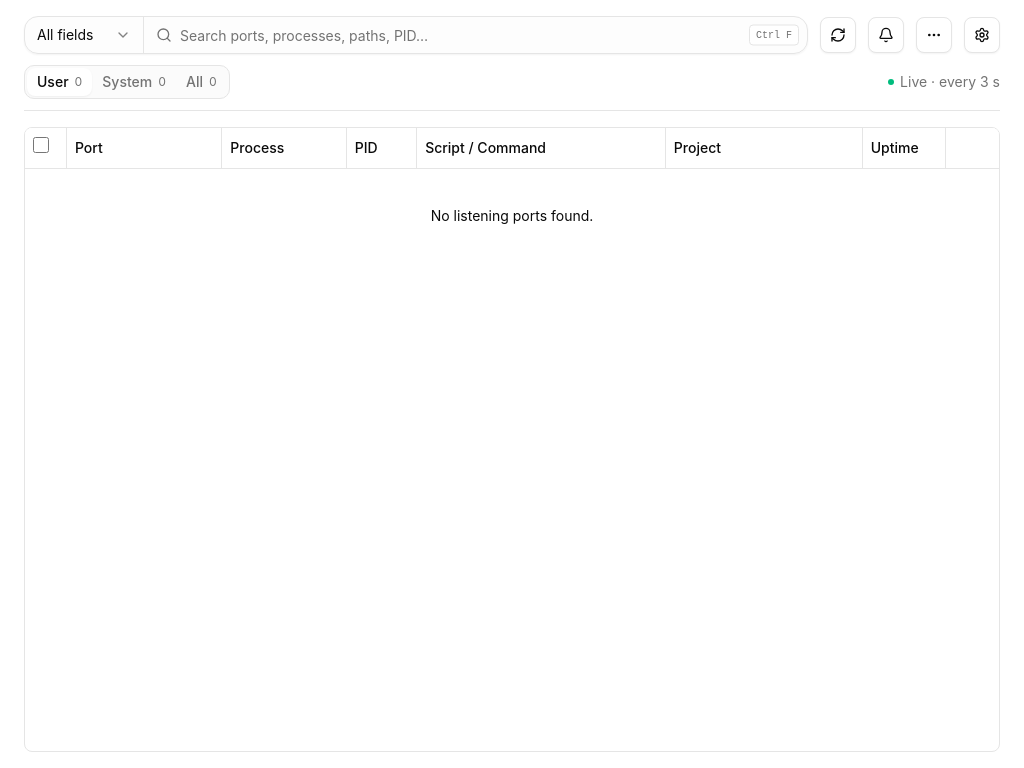
Test: settings › go back to what they were when the backend does not save a change
Click the button named "Settings". click: (982, 35)
box: [964,17,1000,53]
(page scrolled)
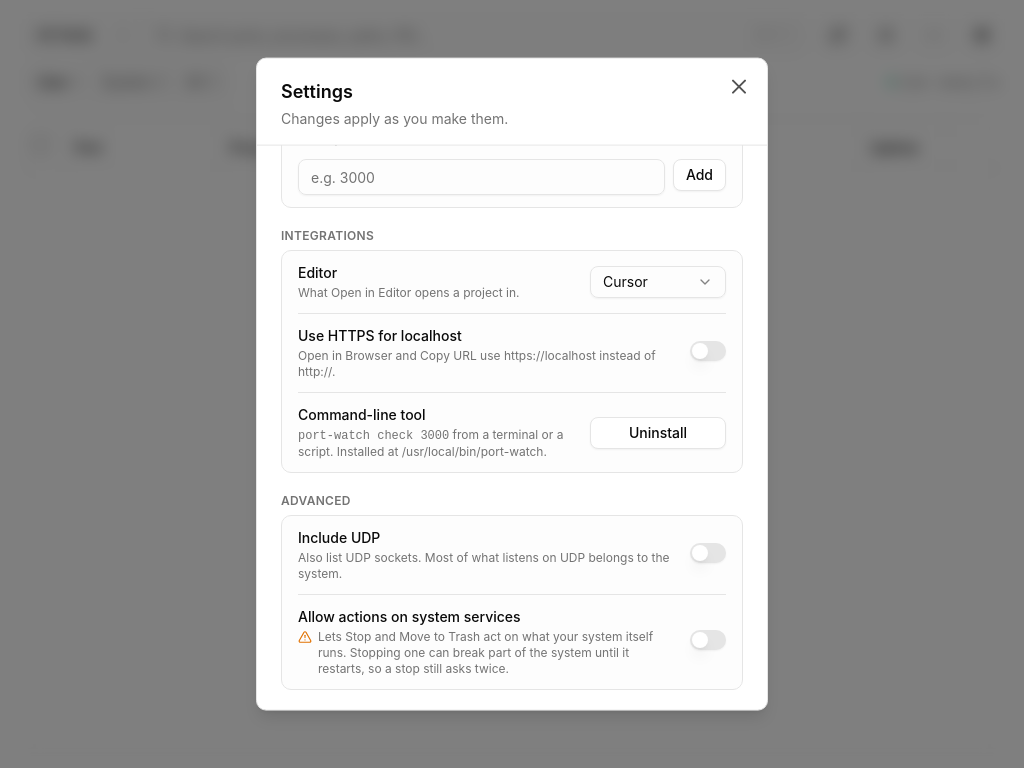
Click the switch named "Allow actions on system services" in the row of "your system". click: (708, 640)
box: [690,630,726,650]
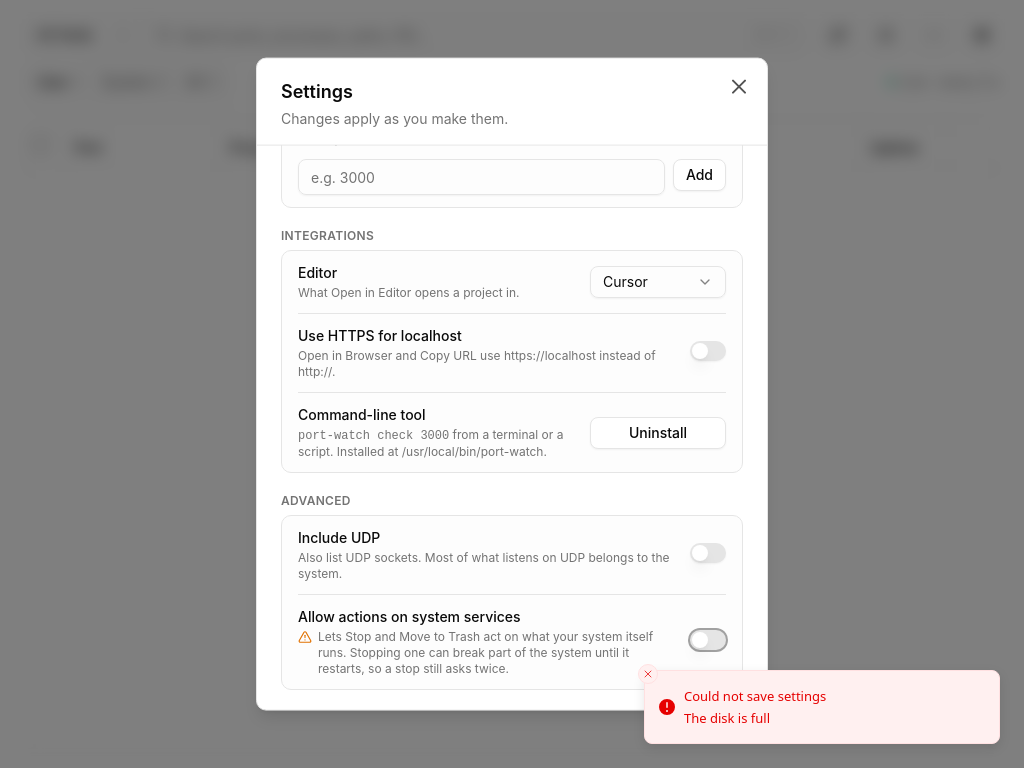
Expected: the text "Could not save settings" is shown, [684,687,826,707]
